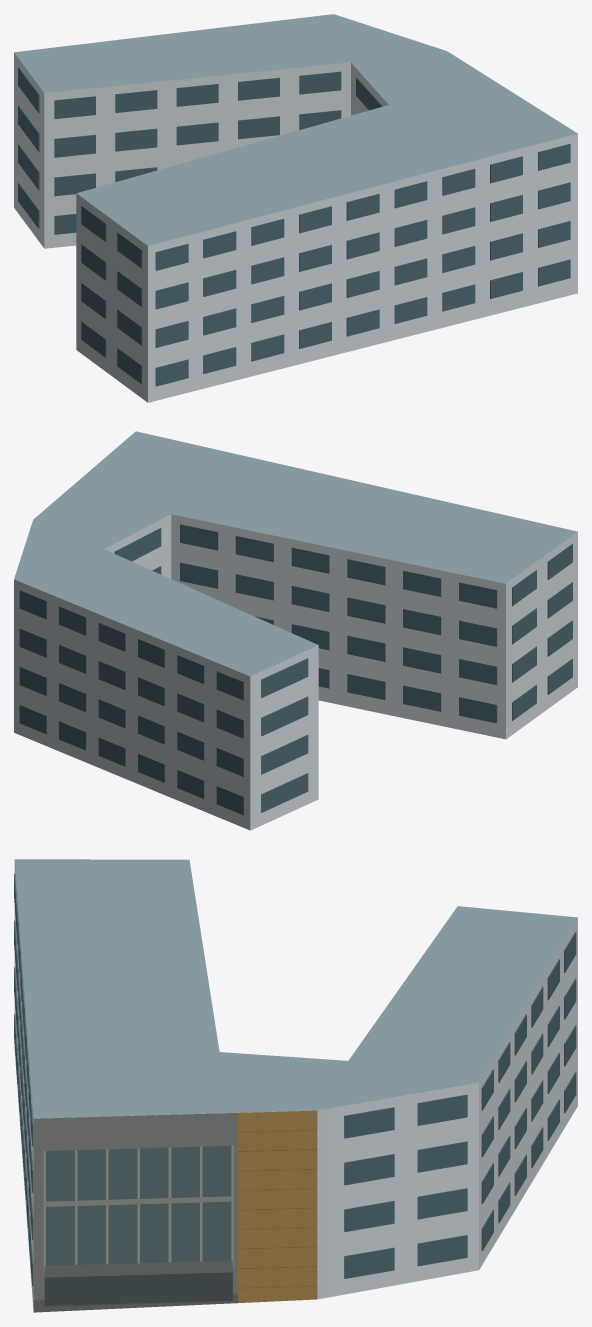
The model's file is fragments.glb.
3 views of the same model, one above another, from view 1: azimuth 30°, elevation 25°; view 2: azimuth 150°, elevation 25°; view 3: azimuth 270°, elevation 25° (orthographic). The views are drawn at different scales.
Visible parts, largest first — view 1: SM_press_Fragment_032, SM_press_Fragment_033, SM_press_Fragment_045, SM_press_Fragment_038, SM_press_Fragment_011, SM_press_Fragment_030, SM_press_Fragment_060, SM_press_Fragment_058, SM_press_Fragment_046, SM_press_Fragment_001, SM_press_Fragment_022, SM_press_Fragment_002 (+33 smaller); view 2: SM_press_Fragment_015, SM_press_Fragment_001, SM_press_Fragment_021, SM_press_Fragment_005, SM_press_Fragment_029, SM_press_Fragment_063, SM_press_Fragment_010, SM_press_Fragment_059, SM_press_Fragment_047, SM_press_Fragment_030, SM_press_Fragment_020, SM_press_Fragment_058 (+28 smaller); view 3: SM_press_Fragment_008, SM_press_Fragment_042, SM_press_Fragment_004, SM_press_Fragment_016, SM_press_Fragment_014, SM_press_Fragment_035, SM_press_Fragment_036, SM_press_Fragment_003, SM_press_Fragment_049, SM_press_Fragment_040, SM_press_Fragment_010, SM_press_Fragment_031 (+27 smaller).
Part boxes in pixels (x1,y1,x2,y2): SM_press_Fragment_032: (434,148,528,298); SM_press_Fragment_033: (162,42,289,139); SM_press_Fragment_045: (54,71,180,181); SM_press_Fragment_038: (345,248,445,348); SM_press_Fragment_011: (338,154,468,248); SM_press_Fragment_030: (18,62,103,169); SM_press_Fragment_060: (267,173,363,271); SM_press_Fragment_058: (91,202,200,277); SM_press_Fragment_046: (177,266,249,373); SM_press_Fragment_001: (14,113,95,248); SM_press_Fragment_022: (106,250,189,351); SM_press_Fragment_002: (169,192,284,270); SM_press_Fragment_015: (319,580,443,710); SM_press_Fragment_001: (195,721,318,830); SM_press_Fragment_021: (440,575,536,732); SM_press_Fragment_005: (253,516,385,629); SM_press_Fragment_029: (365,538,509,622); SM_press_Fragment_063: (177,639,267,738); SM_press_Fragment_010: (138,608,249,722); SM_press_Fragment_059: (105,677,204,782); SM_press_Fragment_047: (68,598,163,694); SM_press_Fragment_030: (248,626,318,736); SM_press_Fragment_020: (203,507,273,609); SM_press_Fragment_058: (478,519,577,594); SM_press_Fragment_008: (78,1080,200,1227); SM_press_Fragment_042: (188,1092,339,1221); SM_press_Fragment_004: (183,1202,336,1304); SM_press_Fragment_016: (288,1074,417,1199); SM_press_Fragment_014: (30,1221,199,1312); SM_press_Fragment_035: (360,1141,479,1279); SM_press_Fragment_036: (308,1195,426,1299); SM_press_Fragment_003: (410,1046,500,1148); SM_press_Fragment_049: (30,1179,122,1300); SM_press_Fragment_040: (30,1071,93,1192); SM_press_Fragment_010: (416,941,559,1047); SM_press_Fragment_031: (48,1032,195,1081).
Size of the model in its own units: 2.2 by 0.7663 by 2.02.
5 materials, 1 textured.
